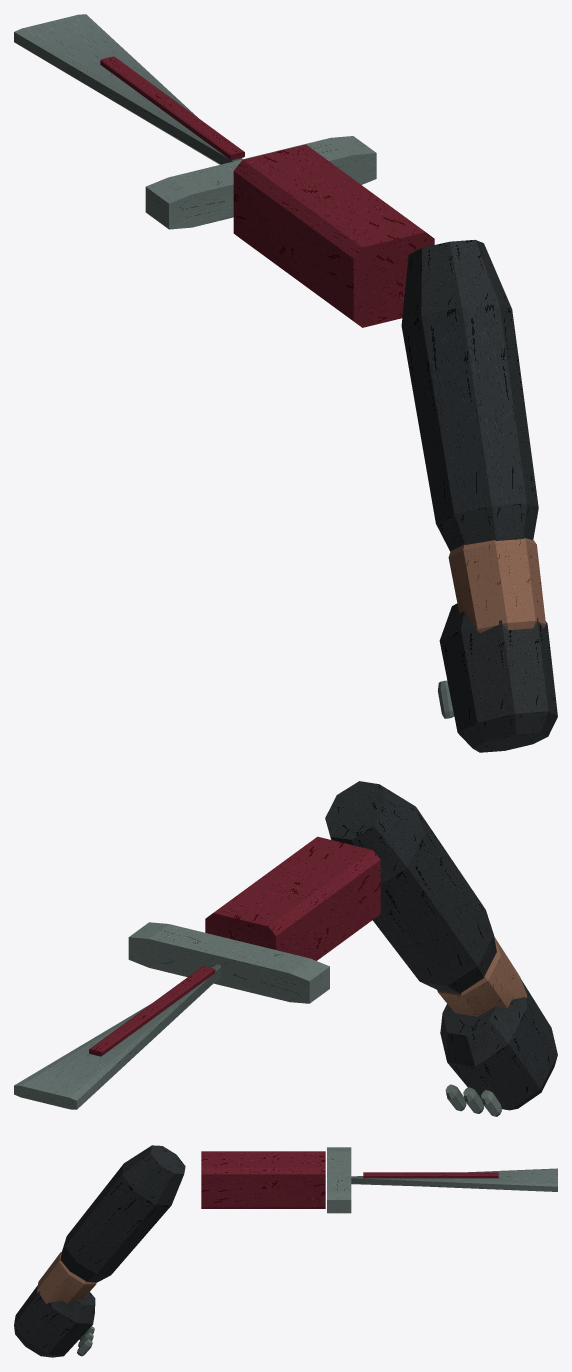
The model's file is knife.glb.
The picture shows the model from 3 angles, top to bottom: view 1: azimuth 30°, elevation 25°; view 2: azimuth 150°, elevation 25°; view 3: azimuth 270°, elevation 25°; orthographic projection. The views are drawn at different scales.
Parts seen in each view (by area): view 1: right-arm, hilt, right-arm-hand, blade, right-arm-wrist, guard, blood-groove; view 2: right-arm, hilt, right-arm-hand, guard, blade, right-arm-wrist, blood-groove; view 3: right-arm, hilt, right-arm-hand, blade, guard, right-arm-wrist, blood-groove.
Part boxes in pixels (left/top/right/bottom): right-arm: left=401, top=240, right=538, bottom=551; hilt: left=233, top=144, right=434, bottom=327; right-arm-hand: left=439, top=603, right=557, bottom=752; blade: left=14, top=14, right=242, bottom=164; right-arm-wrist: left=448, top=538, right=545, bottom=632; guard: left=145, top=136, right=376, bottom=229; blood-groove: left=100, top=56, right=244, bottom=160; right-arm: left=325, top=781, right=496, bottom=993; hilt: left=205, top=836, right=380, bottom=960; right-arm-hand: left=440, top=978, right=557, bottom=1110; guard: left=128, top=922, right=329, bottom=1003; blade: left=14, top=964, right=221, bottom=1109; right-arm-wrist: left=437, top=937, right=527, bottom=1016; blood-groove: left=89, top=966, right=215, bottom=1056; right-arm: left=60, top=1145, right=185, bottom=1282; hilt: left=201, top=1151, right=325, bottom=1208; right-arm-hand: left=14, top=1285, right=95, bottom=1357; blade: left=351, top=1168, right=557, bottom=1191; guard: left=327, top=1147, right=351, bottom=1213; right-arm-wrist: left=37, top=1252, right=96, bottom=1303; blood-groove: left=363, top=1172, right=498, bottom=1178.
Size of the model in its own units: 0.23 by 0.4542 by 1.01.
Materials: 1 (1 with a texture image).
